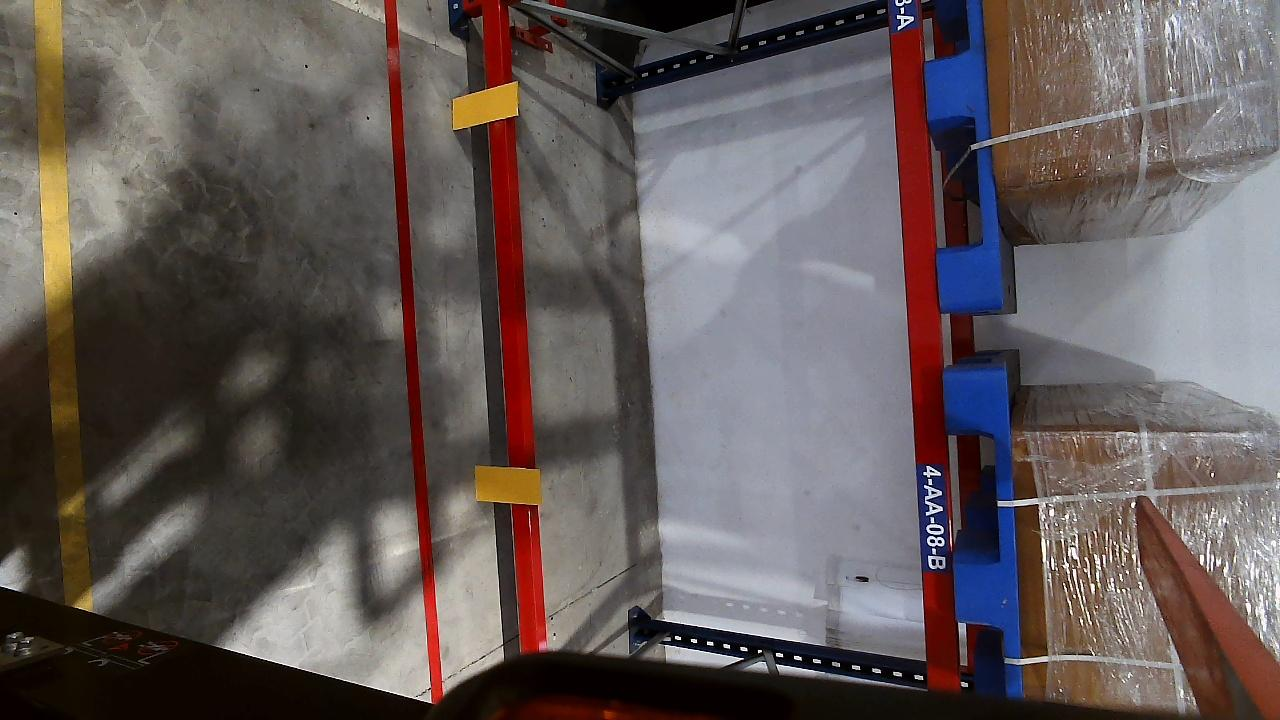h_rack: (897, 0, 955, 680), (484, 8, 545, 649)
orange_strip: (450, 82, 520, 128), (473, 466, 540, 505)
red_line: (376, 0, 444, 700)
small_pallet: (916, 0, 1007, 305), (942, 384, 1027, 690)
yellow_line: (29, 0, 90, 604)
